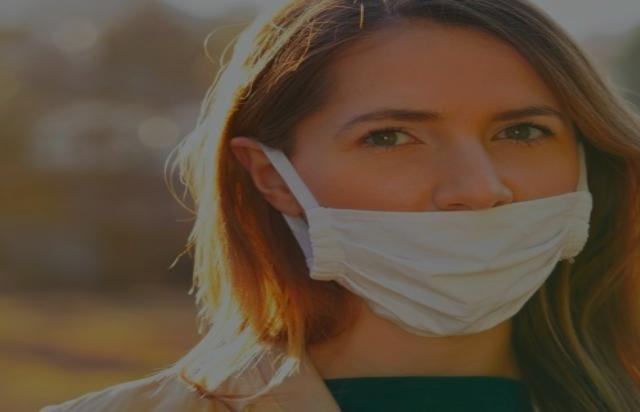mask_weared_incorrect: (194, 1, 594, 341)
